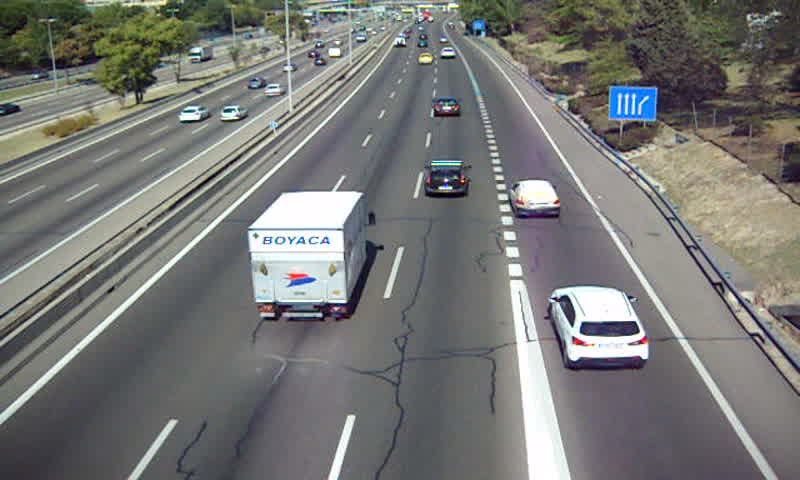car: (549, 285, 651, 371), (422, 159, 473, 197), (510, 179, 561, 216), (430, 98, 460, 118), (440, 46, 457, 59), (417, 52, 433, 63)
small-truck: (249, 192, 368, 318)
